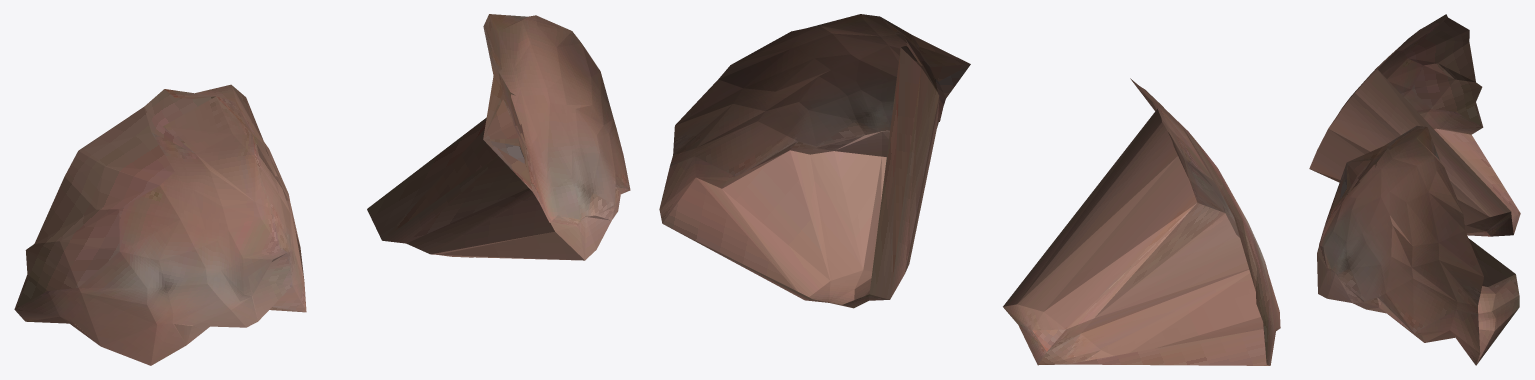
Rendered from ewm_t2homosapien_hat.glb.
The picture shows the model from 3 angles, left to right: view 1: azimuth 30°, elevation 25°; view 2: azimuth 150°, elevation 25°; view 3: azimuth 270°, elevation 25°; orthographic projection. The views are drawn at different scales.
Visible parts, largest first — view 1: ewm_t2homosapien_hat; view 2: ewm_t2homosapien_hat; view 3: ewm_t2homosapien_hat.
Part boxes in pixels (left/top/right/bottom): ewm_t2homosapien_hat: left=14, top=14, right=630, bottom=365; ewm_t2homosapien_hat: left=659, top=14, right=1280, bottom=365; ewm_t2homosapien_hat: left=1309, top=14, right=1520, bottom=365.
Bounding box in the file's own units: 0.1375 × 0.0556 × 0.0534.
Materials: 1 (1 with a texture image).
